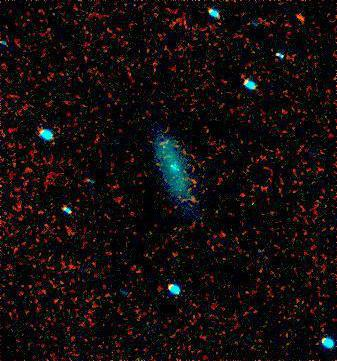star: (288, 4, 318, 34)
